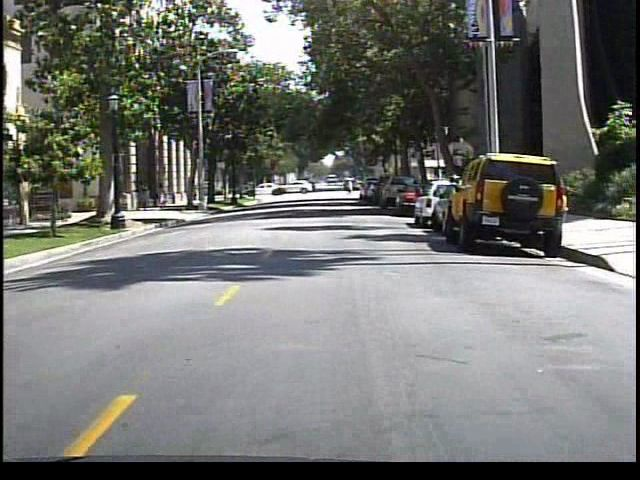person: (154, 180, 175, 212), (138, 178, 157, 212), (346, 176, 360, 198)
